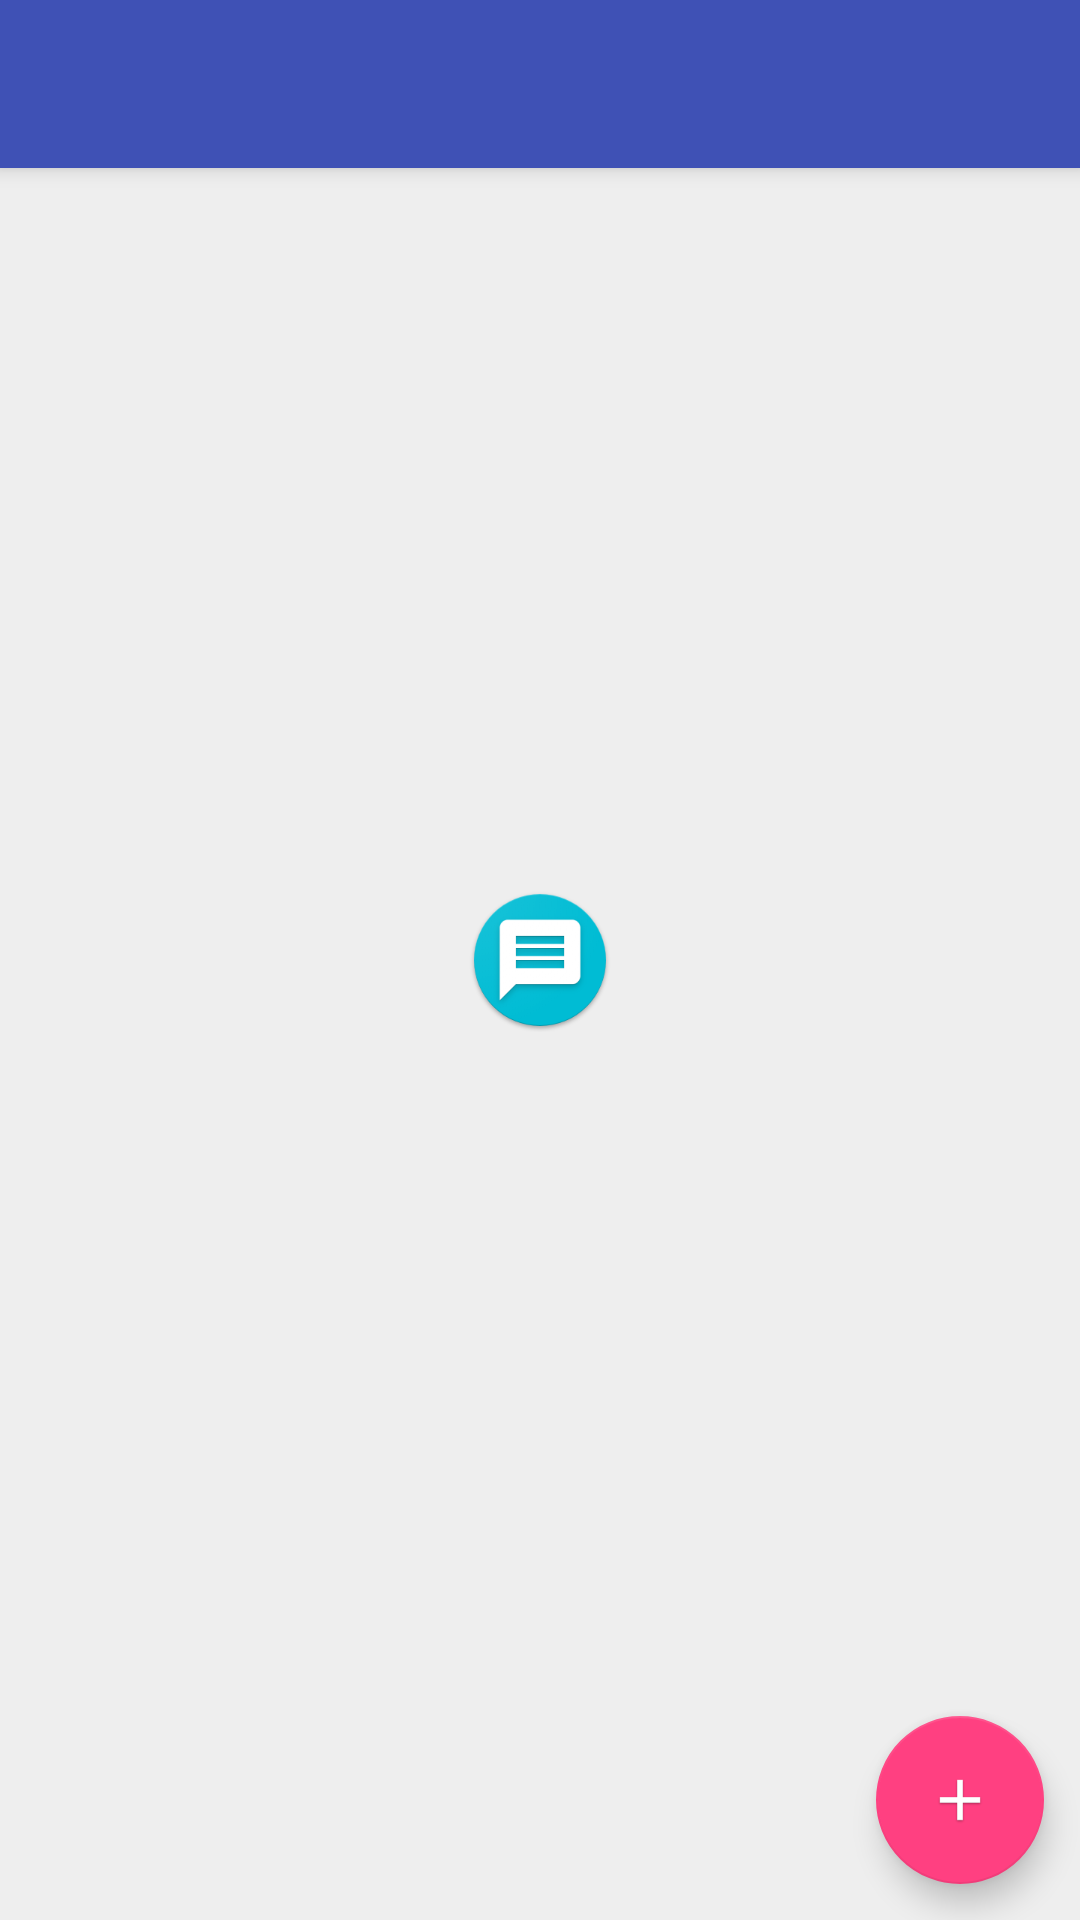

Named icons in this screenshot (1080px×1920px) and their bounding boxes, (x1, y1, x2, y2):
fab: (876, 1716, 1044, 1884)
